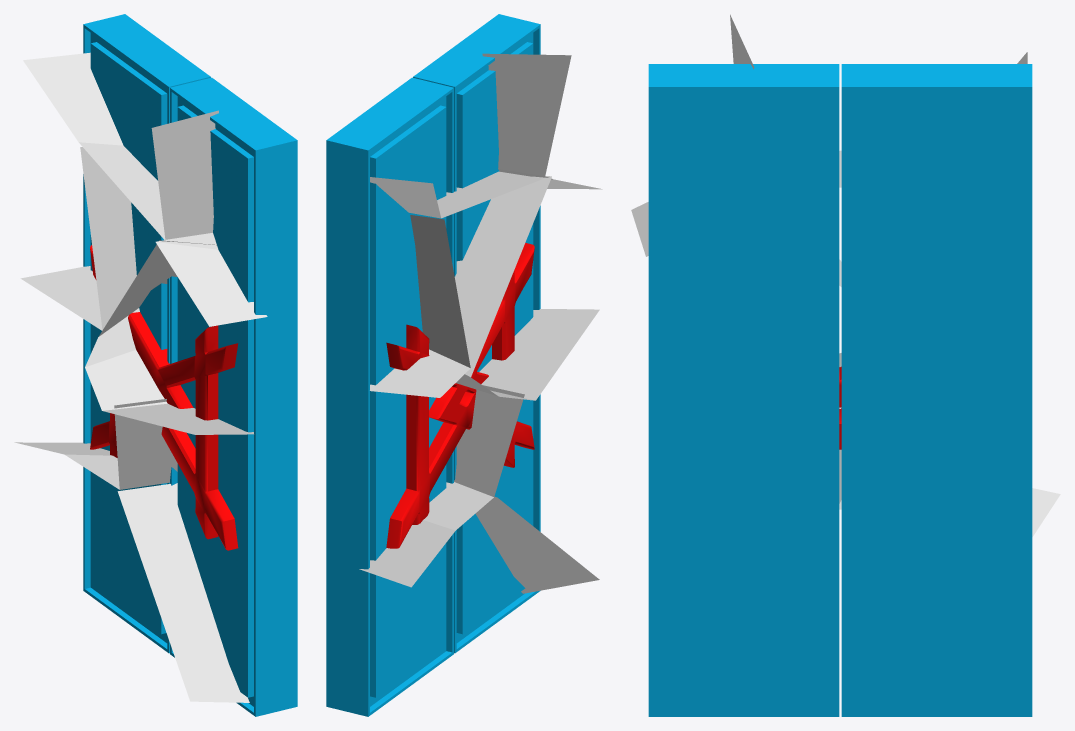
Rendered from destructible_door.FBX.
3 renders of one model, left to right at view 1: azimuth 30°, elevation 25°; view 2: azimuth 150°, elevation 25°; view 3: azimuth 270°, elevation 25°, orthographic. The views are drawn at different scales.
Visible parts, largest first — view 1: destructible_door, destructible_door_light; view 2: destructible_door, destructible_door_light; view 3: destructible_door, destructible_door_light.
Part boxes in pixels (x1,y1,x2,y2): destructible_door: (83,14,297,716); destructible_door_light: (14,52,267,702); destructible_door: (326,14,540,716); destructible_door_light: (359,53,602,593); destructible_door: (648,64,1032,716); destructible_door_light: (631,14,1060,536).
Bounding box in the file's own units: 42.32 × 201 × 122.
